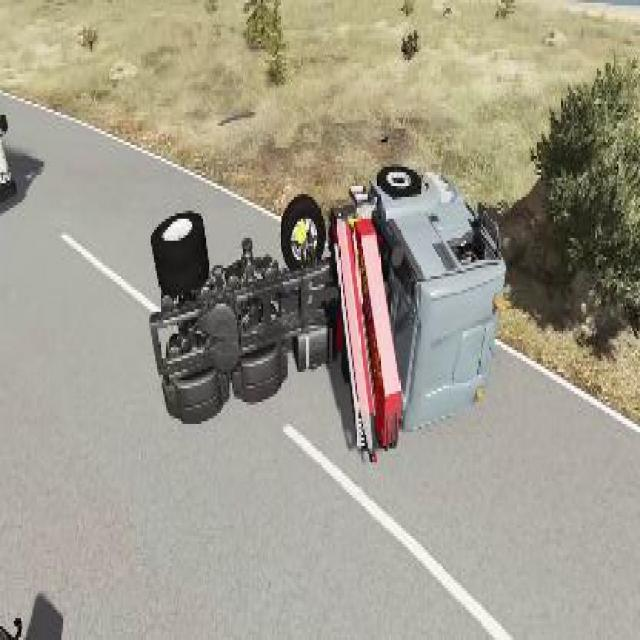accident: (146, 153, 506, 468)
